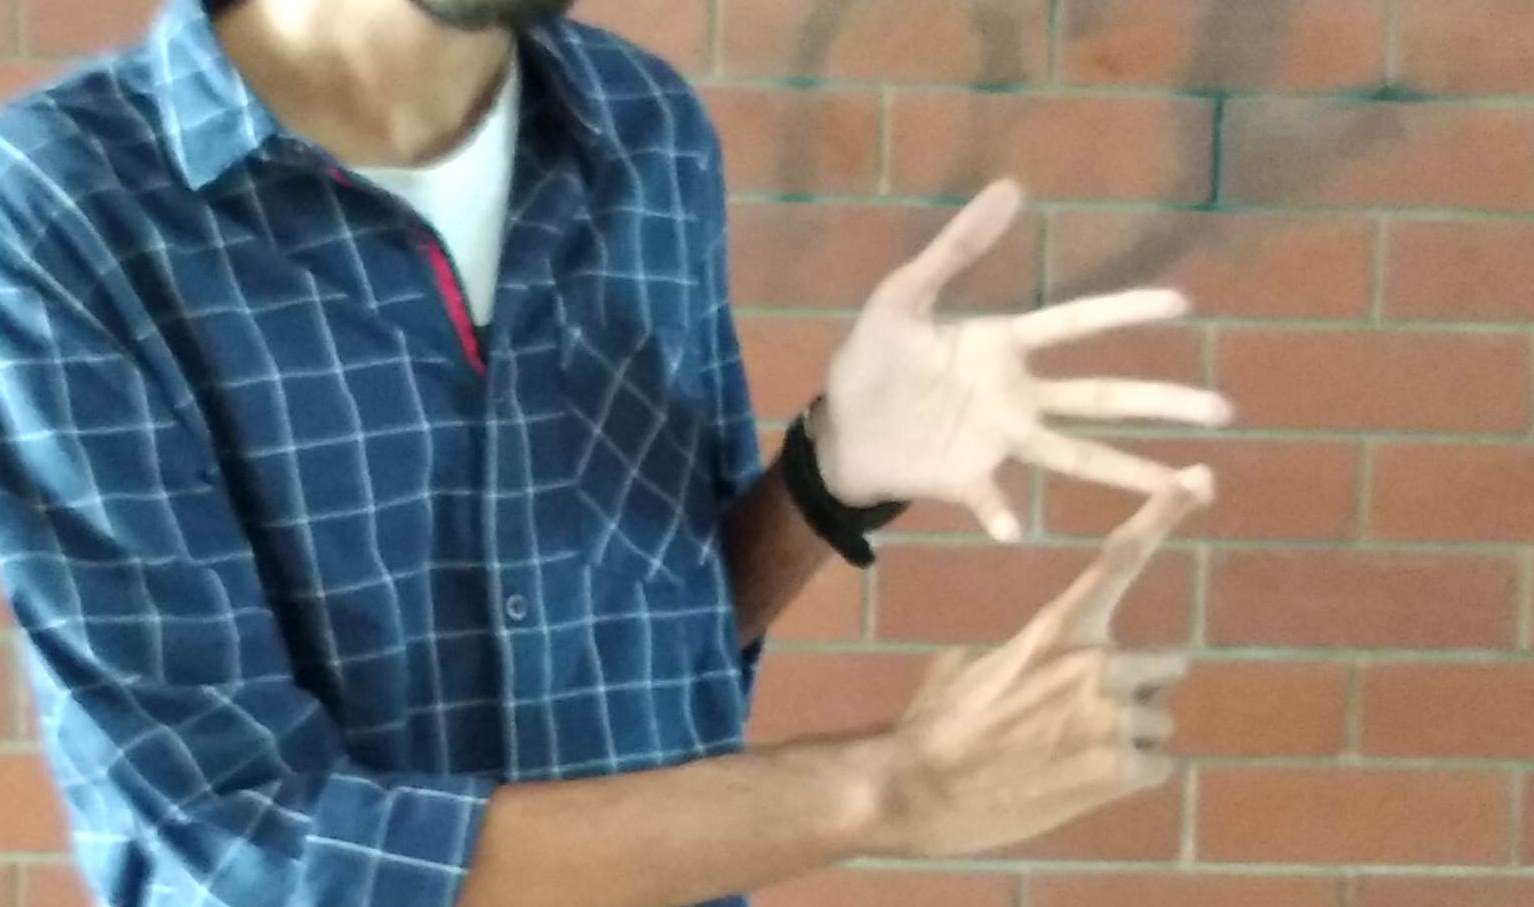e: (841, 256, 1247, 862)
